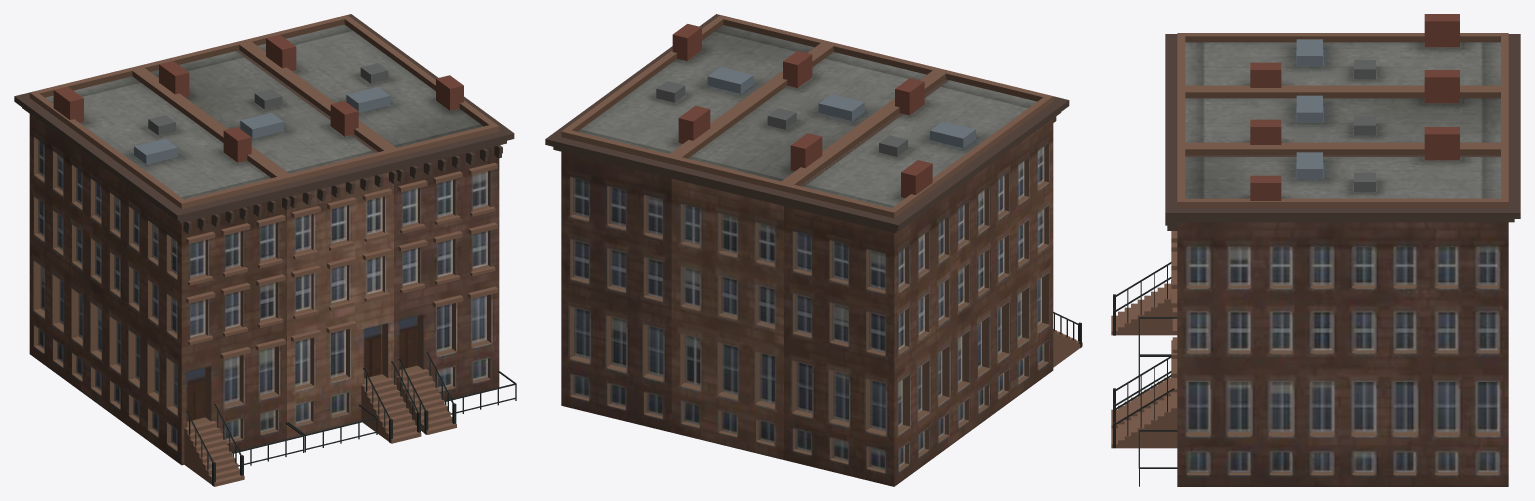
File: nyc_brownstone_a.glb
3 renders of one model, left to right at view 1: azimuth 30°, elevation 25°; view 2: azimuth 150°, elevation 25°; view 3: azimuth 270°, elevation 25°, orthographic. The views are drawn at different scales.
Parts seen in each view (by area): view 1: nyc_brownstone_a; view 2: nyc_brownstone_a; view 3: nyc_brownstone_a.
Boxes of the visible parts, x1=… form: nyc_brownstone_a: x1=14, y1=14, x2=516, y2=486; nyc_brownstone_a: x1=545, y1=14, x2=1082, y2=486; nyc_brownstone_a: x1=1111, y1=14, x2=1520, y2=486.
Size of the model in its own units: 19.2 by 15.25 by 18.55.
Materials: 1 (1 with a texture image).
